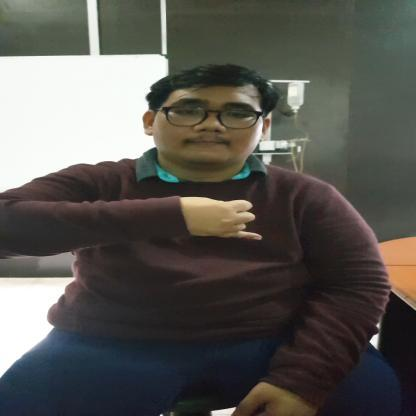J: (177, 196, 264, 241)
